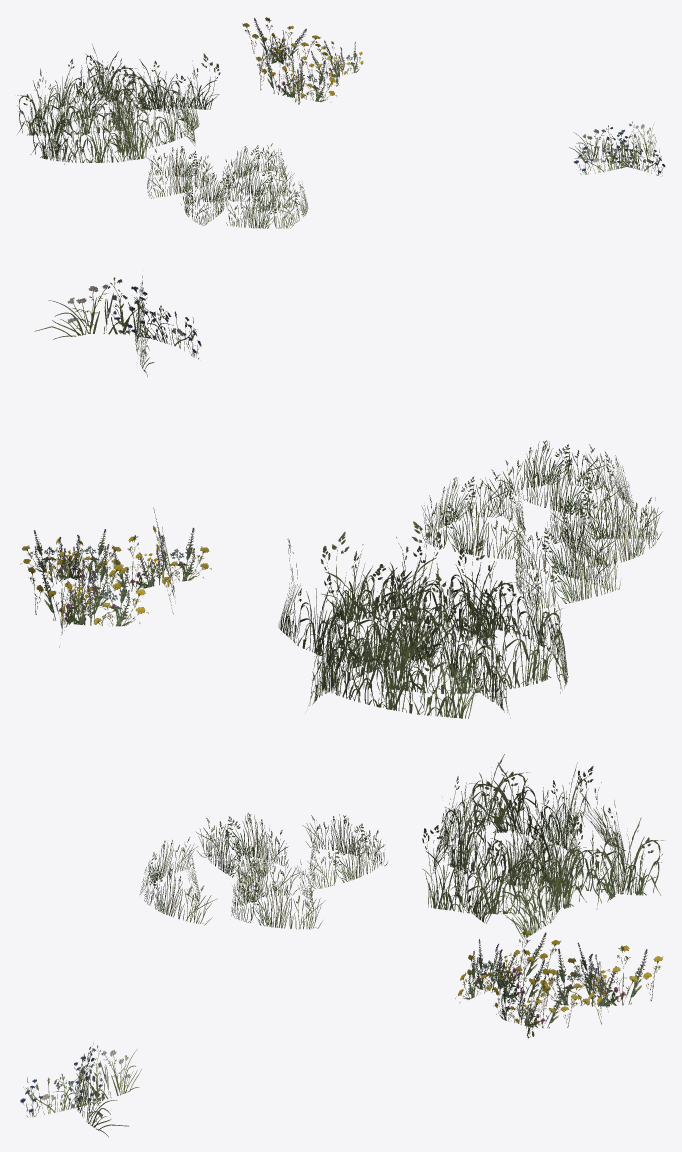
The model's file is grass.glb.
3 renders of one model, top to bottom at view 1: azimuth 30°, elevation 25°; view 2: azimuth 150°, elevation 25°; view 3: azimuth 270°, elevation 25°, orthographic. The views are drawn at different scales.
Parts seen in each view (by area): view 1: grass0, flowerY, flowerB, grass3, grass4, grass2, grass1; view 2: grass0, flowerY, grass1, grass3, grass2, grass4, flowerB; view 3: grass0, flowerY, flowerB, grass1, grass4, grass2, grass3.
Boxes of the visible parts, <box> form: grass0: <box>17,44,220,164</box>; flowerY: <box>242,17,363,104</box>; flowerB: <box>569,121,665,175</box>; grass3: <box>226,181,308,228</box>; grass4: <box>221,143,294,196</box>; grass2: <box>147,146,213,198</box>; grass1: <box>180,172,248,225</box>; grass0: <box>278,521,568,718</box>; flowerY: <box>20,507,211,647</box>; grass1: <box>547,487,662,567</box>; grass3: <box>496,440,635,520</box>; grass2: <box>512,523,620,610</box>; grass4: <box>421,469,525,559</box>; flowerB: <box>34,275,201,376</box>; grass0: <box>422,754,665,939</box>; flowerY: <box>455,930,663,1038</box>; flowerB: <box>20,1043,141,1137</box>; grass1: <box>195,813,288,893</box>; grass4: <box>231,858,325,929</box>; grass2: <box>302,814,387,888</box>; grass3: <box>139,837,217,925</box>.
Size of the model in its own units: 11.25 by 1.41 by 9.73.
Materials: 1 (1 with a texture image).
